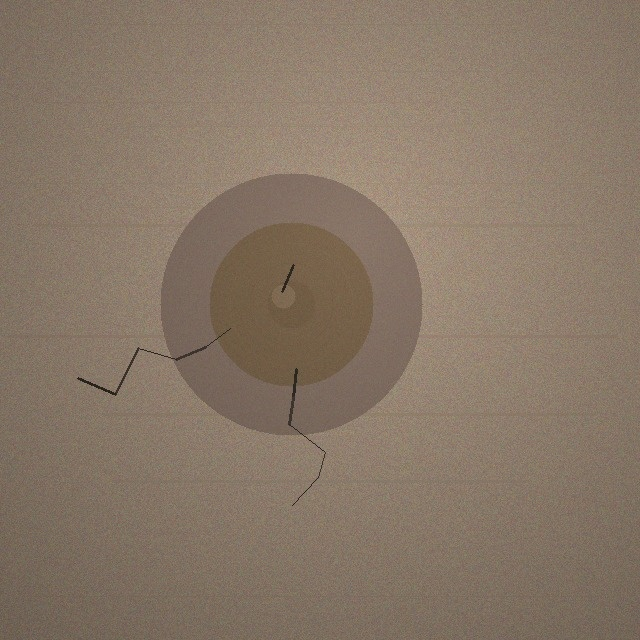crack: (160, 173, 422, 435)
